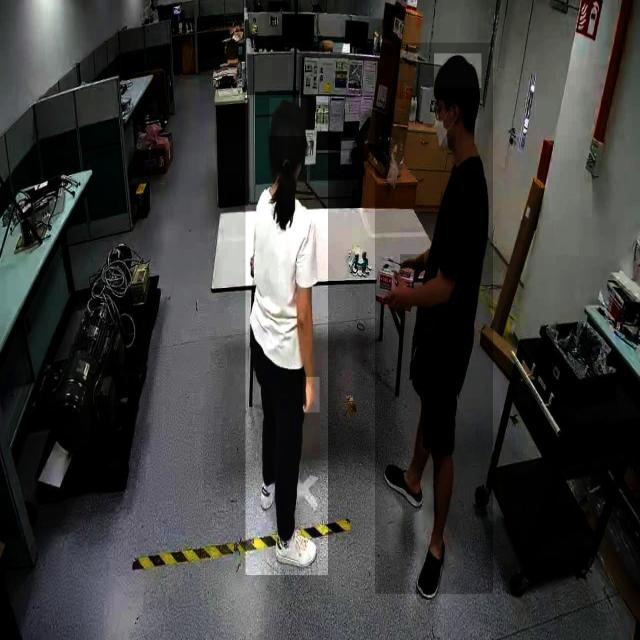face_mask: (432, 108, 458, 148)
hand_noglove: (384, 268, 412, 313), (302, 377, 320, 413), (400, 255, 424, 278)
head_nohelmet: (434, 53, 482, 89), (269, 98, 307, 137)
person: (375, 42, 493, 594), (245, 95, 328, 576)
shoes: (416, 522, 452, 604), (269, 528, 319, 574), (382, 459, 426, 509)
